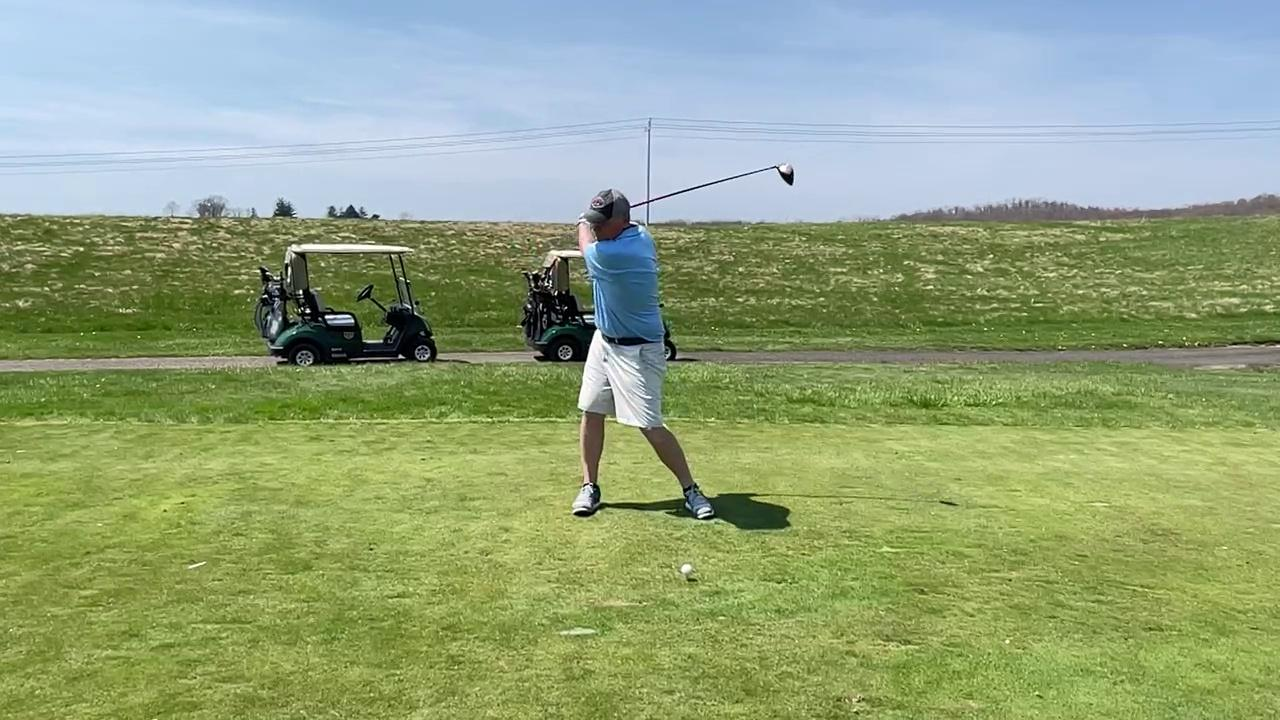ClubHead: (764, 161, 799, 189)
GolfBall: (679, 561, 695, 578)
